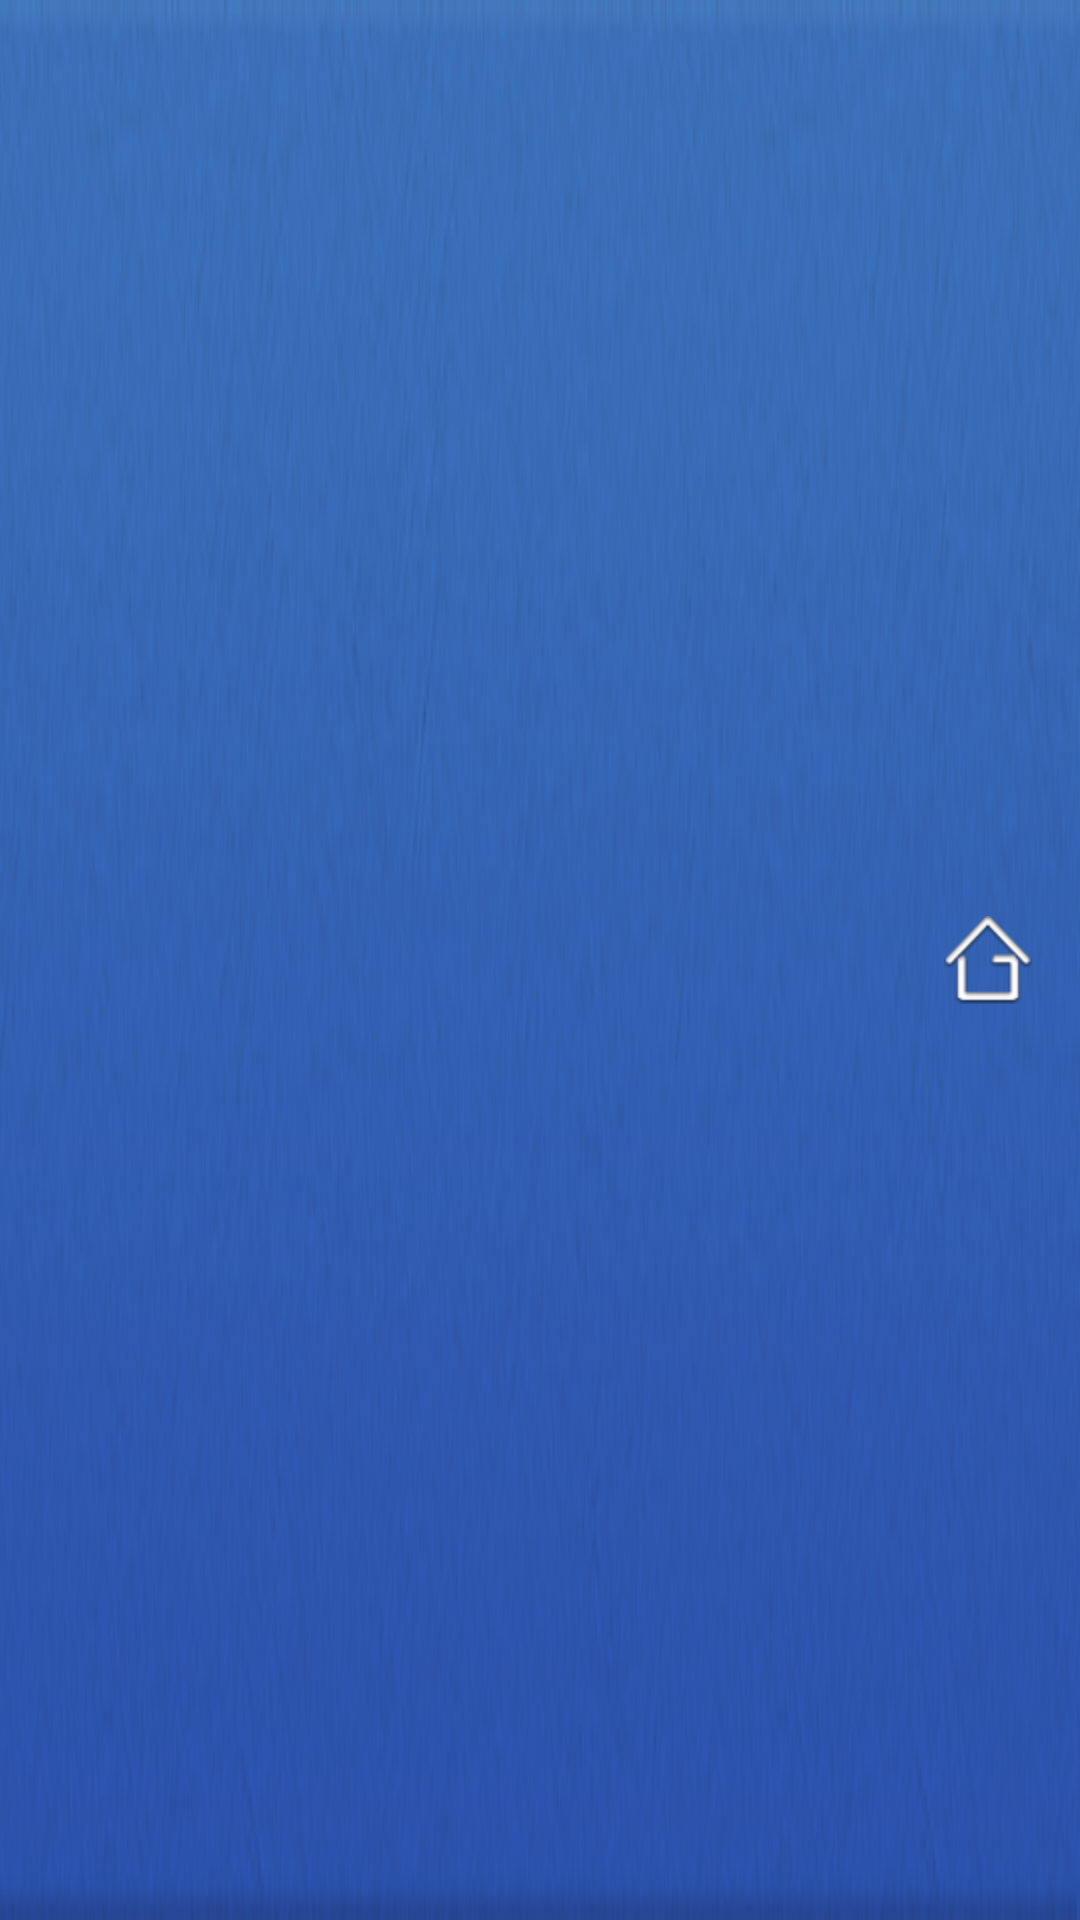

Named icons in this screenshot (1080px×1920px) and their bounding boxes, (x1, y1, x2, y2):
home: (944, 916, 1032, 1004)
